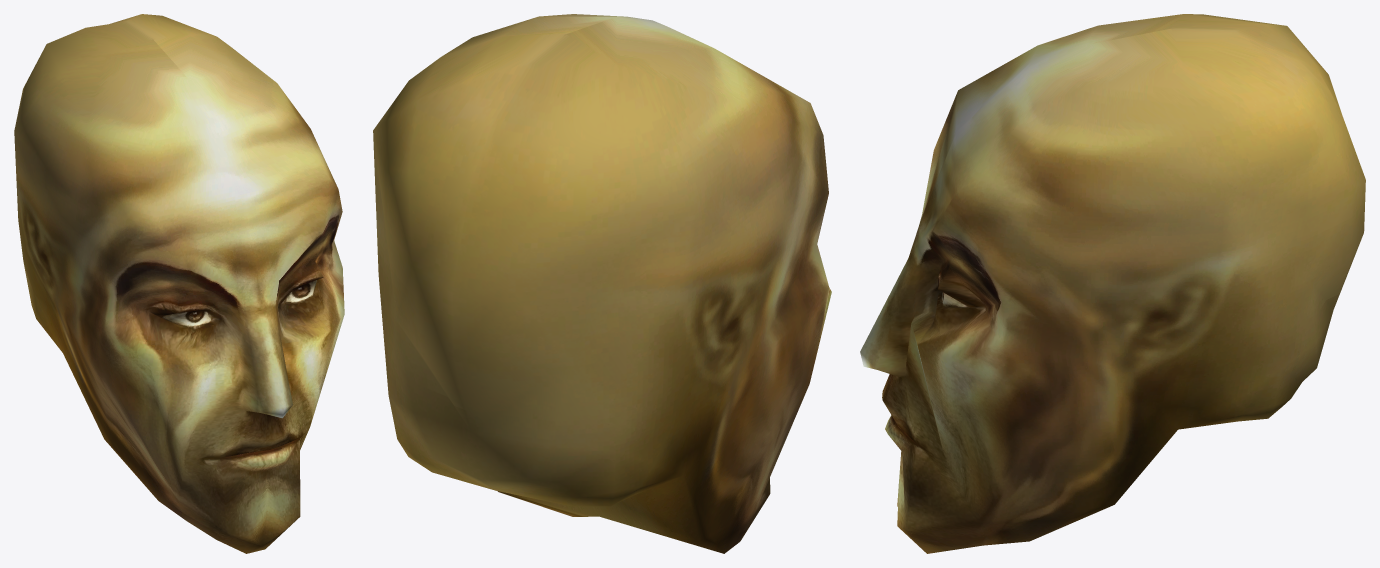
Rendered from b_n_high elf_m_head_04.glb.
The picture shows the model from 3 angles, left to right: view 1: azimuth 30°, elevation 25°; view 2: azimuth 150°, elevation 25°; view 3: azimuth 270°, elevation 25°; orthographic projection. The views are drawn at different scales.
Visible parts, largest first — view 1: Tri B_N_High Elf_M_Head_04; view 2: Tri B_N_High Elf_M_Head_04; view 3: Tri B_N_High Elf_M_Head_04.
Part boxes in pixels (x1,y1,x2,y2): Tri B_N_High Elf_M_Head_04: (14,14,344,553); Tri B_N_High Elf_M_Head_04: (373,14,831,553); Tri B_N_High Elf_M_Head_04: (860,14,1365,553).
Size of the model in its own units: 0.0942 by 0.1602 by 0.1412.
Materials: 1 (1 with a texture image).
